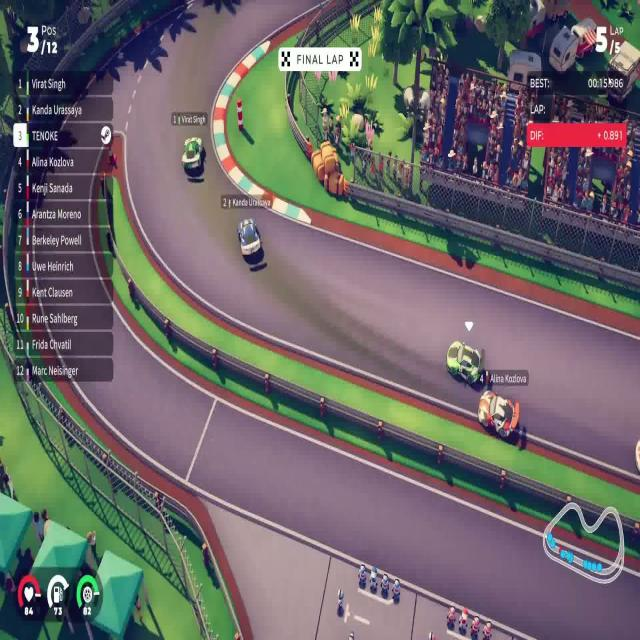car: (477, 388, 520, 440), (445, 339, 487, 387), (236, 216, 262, 260), (181, 135, 205, 178)
